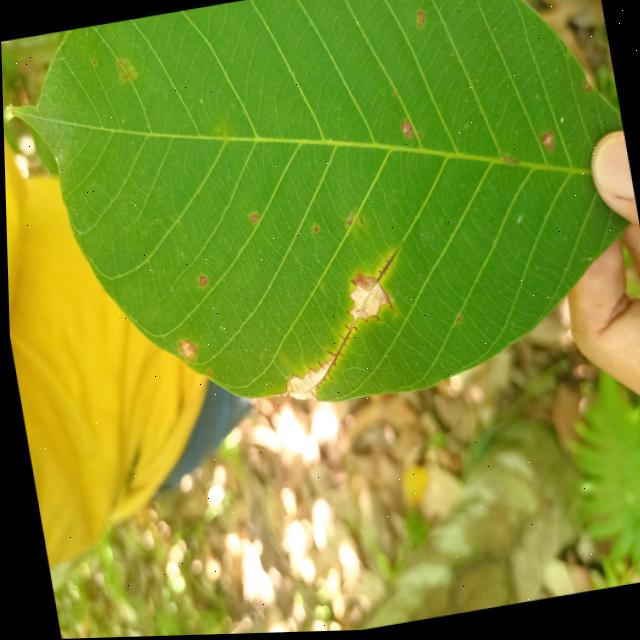Colletotrichum: (357, 221, 361, 225)
Corynespora: (298, 311, 364, 392), (366, 249, 404, 289), (374, 280, 394, 316), (372, 316, 379, 325), (348, 281, 354, 288)
Leaf-Blight: (275, 359, 338, 409), (342, 274, 387, 324)
